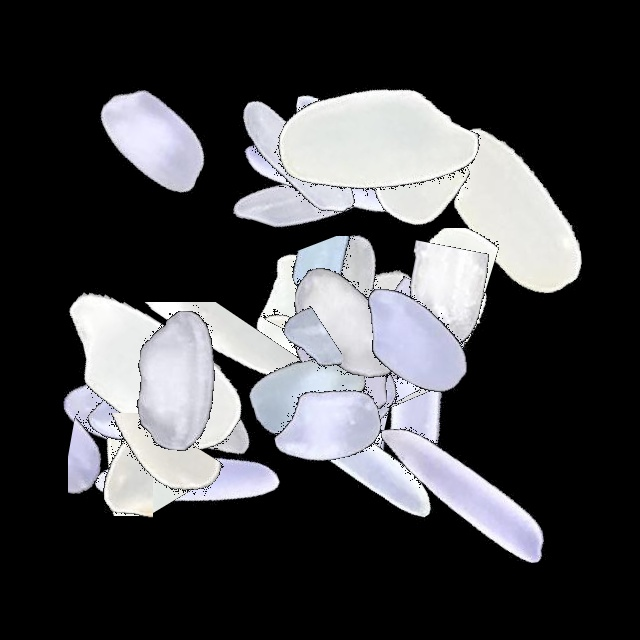Broken: (289, 58, 461, 308), (0, 352, 250, 516), (100, 312, 263, 562), (184, 310, 434, 472), (331, 267, 581, 422), (219, 113, 469, 262), (364, 195, 512, 445), (323, 193, 470, 443), (326, 206, 462, 456), (231, 246, 364, 496), (223, 236, 473, 367), (266, 101, 516, 230), (71, 302, 321, 426), (229, 264, 479, 388), (353, 222, 472, 472), (171, 133, 421, 250), (0, 413, 250, 524), (68, 336, 178, 586), (308, 228, 558, 334), (240, 244, 342, 494), (316, 245, 416, 495), (55, 315, 153, 565), (254, 345, 504, 441), (242, 282, 492, 368)
Full: (243, 204, 493, 454), (188, 222, 438, 472), (29, 307, 279, 557), (296, 251, 546, 501), (220, 185, 470, 435), (223, 288, 473, 538), (184, 65, 434, 315), (0, 283, 250, 533), (59, 354, 309, 604), (38, 244, 288, 494), (26, 11, 276, 261), (19, 283, 269, 533), (390, 86, 640, 336), (210, 48, 460, 298), (217, 263, 467, 513), (220, 326, 470, 576), (216, 236, 466, 486), (337, 372, 587, 622), (183, 273, 433, 523), (223, 196, 473, 446), (172, 36, 422, 286), (23, 250, 273, 500), (253, 21, 503, 271), (291, 214, 541, 464), (52, 256, 302, 506), (202, 300, 452, 550)
